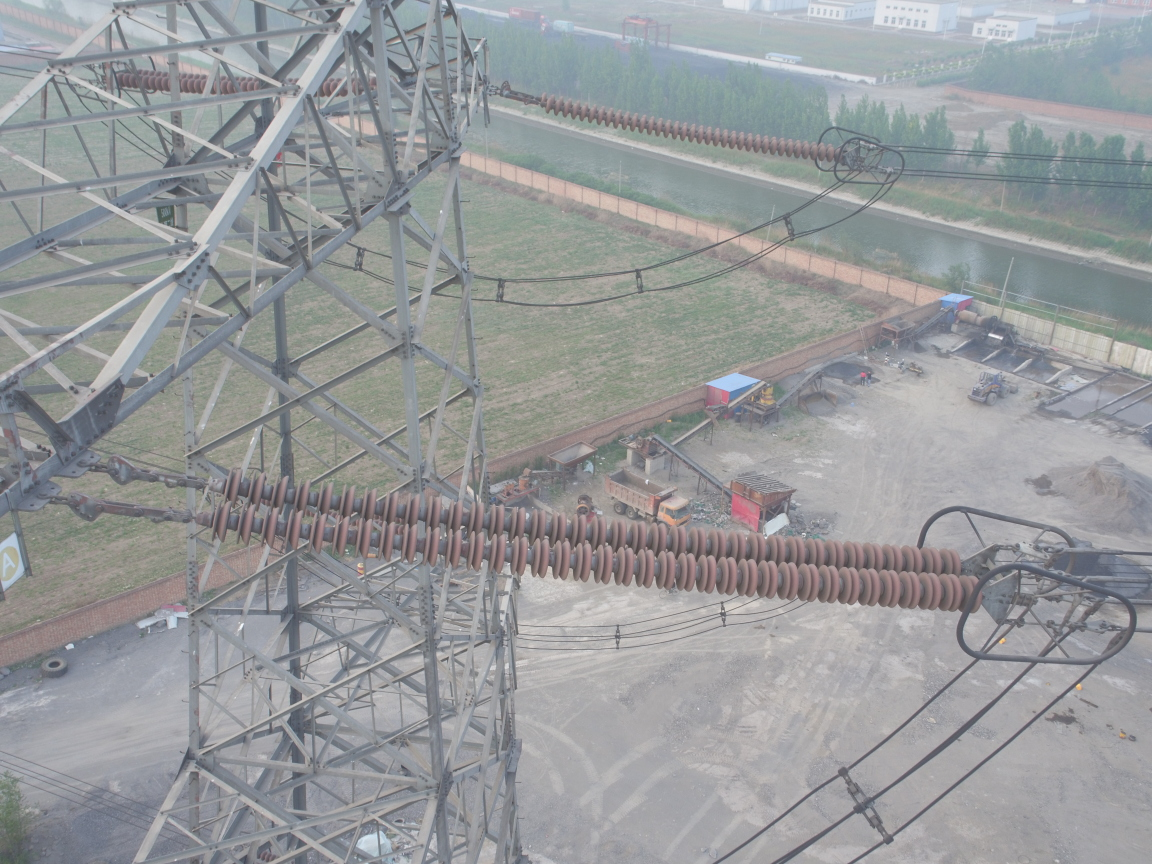insulator: (158, 464, 998, 617), (521, 91, 853, 170)
